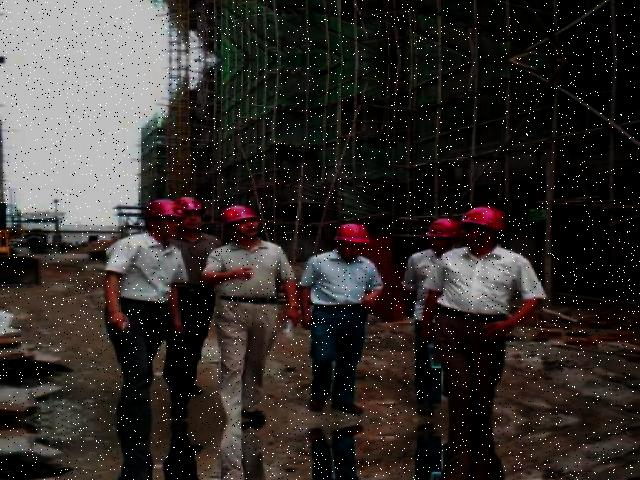Helmet: (454, 201, 512, 238), (326, 219, 373, 247), (215, 202, 260, 229), (140, 197, 183, 223), (422, 212, 459, 241)
